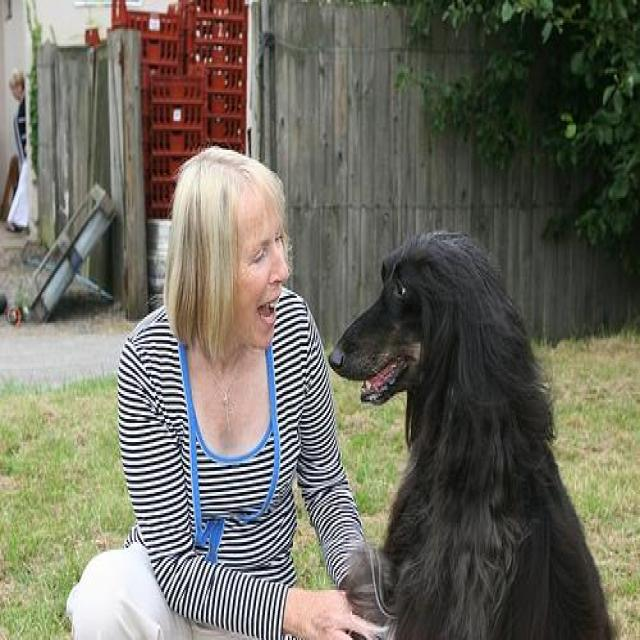afghan_hound: (328, 225, 610, 638)
